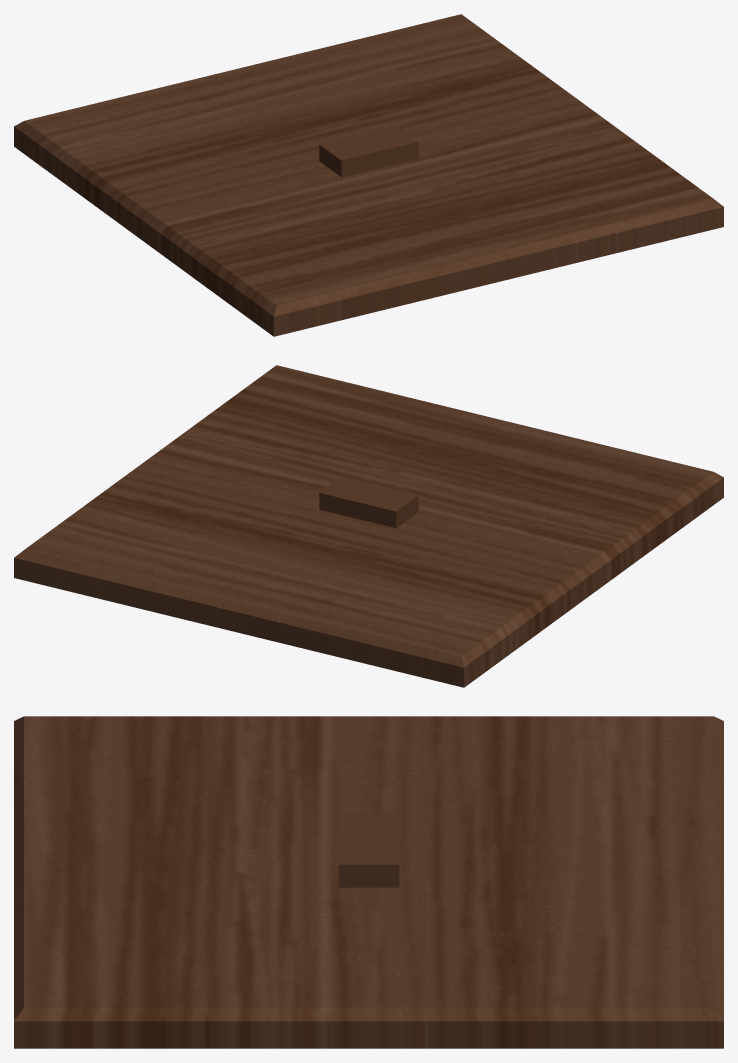
Rendered from lid_3_3.glb.
3 renders of one model, top to bottom at view 1: azimuth 30°, elevation 25°; view 2: azimuth 150°, elevation 25°; view 3: azimuth 270°, elevation 25°, orthographic. The views are drawn at different scales.
Parts seen in each view (by area): view 1: lid_3_3; view 2: lid_3_3; view 3: lid_3_3.
Part boxes in pixels (left/top/right/bottom): lid_3_3: left=14, top=14, right=723, bottom=336; lid_3_3: left=14, top=365, right=723, bottom=687; lid_3_3: left=14, top=716, right=723, bottom=1048.
Bounding box in the file's own units: 0.14 × 0.013 × 0.14.
Materials: 1 (1 with a texture image).
